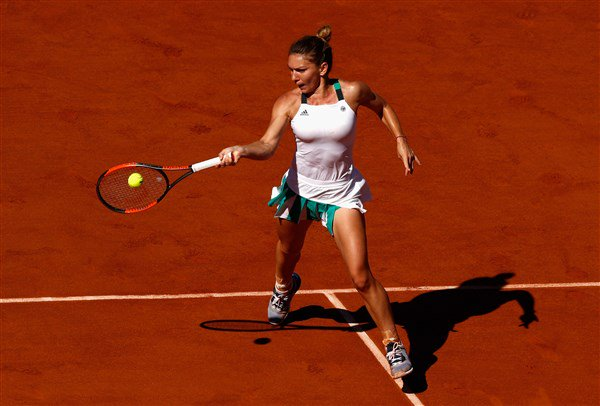tennis ball: (126, 173, 145, 189)
tennis player: (220, 26, 424, 381)
